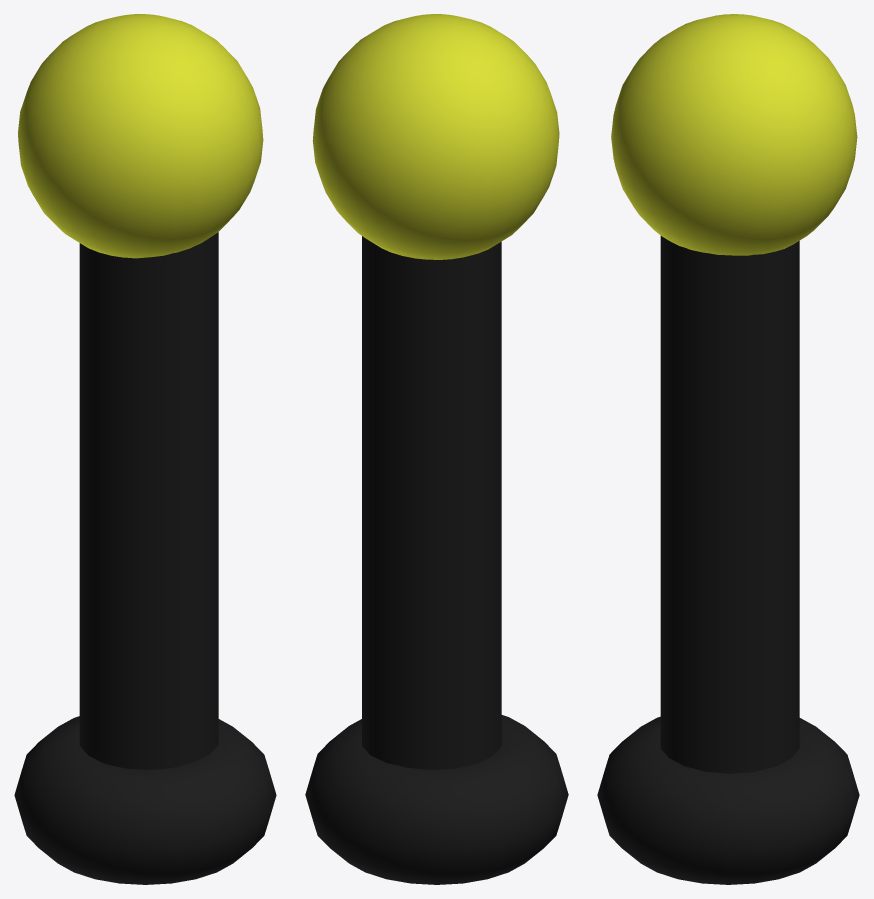
The model's file is Lever.FBX.
The picture shows the model from 3 angles, left to right: view 1: azimuth 30°, elevation 25°; view 2: azimuth 150°, elevation 25°; view 3: azimuth 270°, elevation 25°; orthographic projection.
Parts seen in each view (by area): view 1: Cylinder001, Sphere001, Torus001; view 2: Cylinder001, Sphere001, Torus001; view 3: Cylinder001, Sphere001, Torus001.
Part boxes in pixels (x1,y1,x2,y2): Cylinder001: (79,232,218,769); Sphere001: (18,14,263,258); Torus001: (14,716,276,884); Cylinder001: (362,236,501,769); Sphere001: (312,14,559,259); Torus001: (305,715,568,884); Cylinder001: (660,236,799,773); Sphere001: (611,14,857,255); Torus001: (597,716,859,884).
Bounding box in the file's own units: 19.63 × 67.99 × 19.63.
